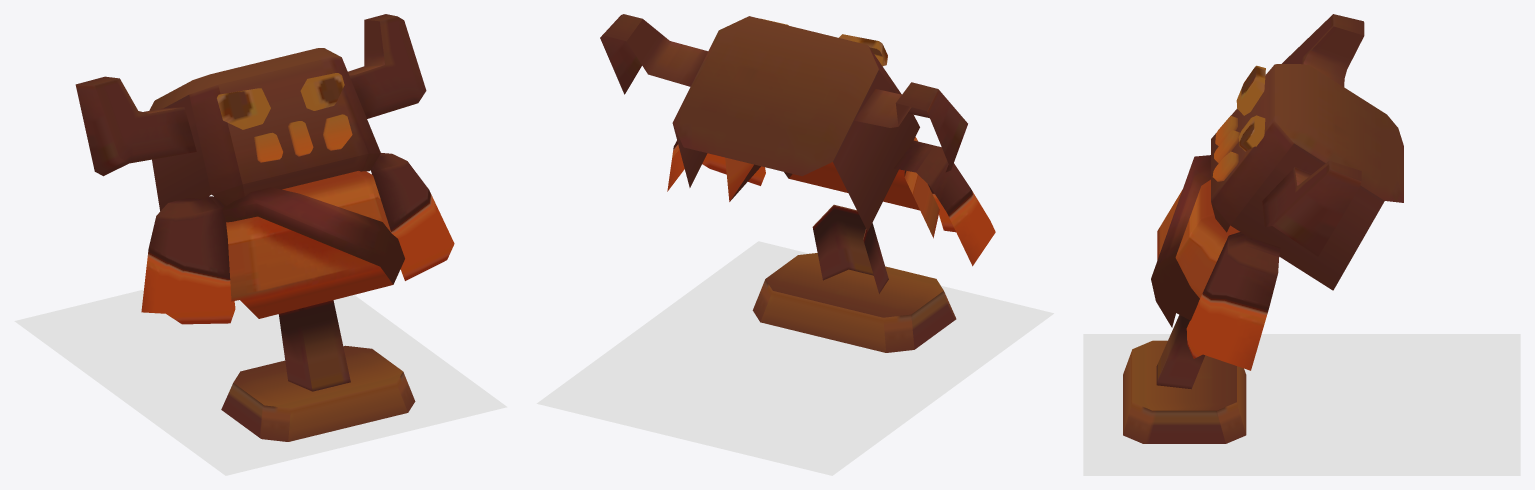
Rendered from scarecrow.fbx.
3 views of the same model, side by side, from view 1: azimuth 30°, elevation 25°; view 2: azimuth 150°, elevation 25°; view 3: azimuth 270°, elevation 25° (orthographic). The views are drawn at different scales.
Parts seen in each view (by area): view 1: bone, shadow; view 2: bone, shadow; view 3: bone, shadow.
Boxes of the visible parts, <box> form: bone: <box>75,14,454,441</box>; shadow: <box>14,289,507,475</box>; bone: <box>600,14,995,352</box>; shadow: <box>536,241,1053,475</box>; bone: <box>1123,14,1403,443</box>; shadow: <box>1083,334,1520,475</box>.
Size of the model in its own units: 1.03 by 0.9747 by 1.2.
Materials: 2 (2 with a texture image).
